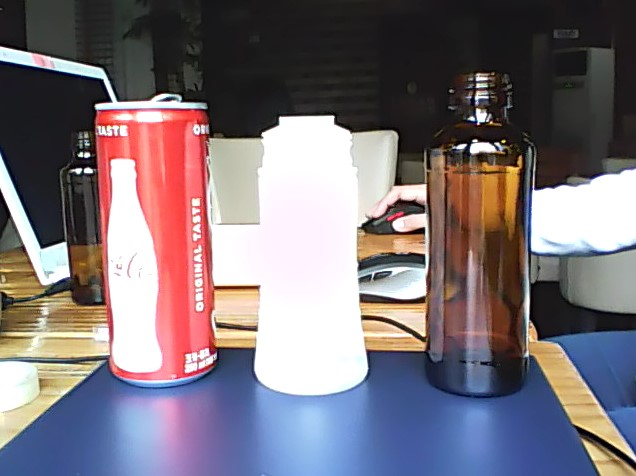Can: (78, 91, 223, 385)
Glass: (422, 69, 539, 403)
Plastic: (242, 105, 370, 399)
